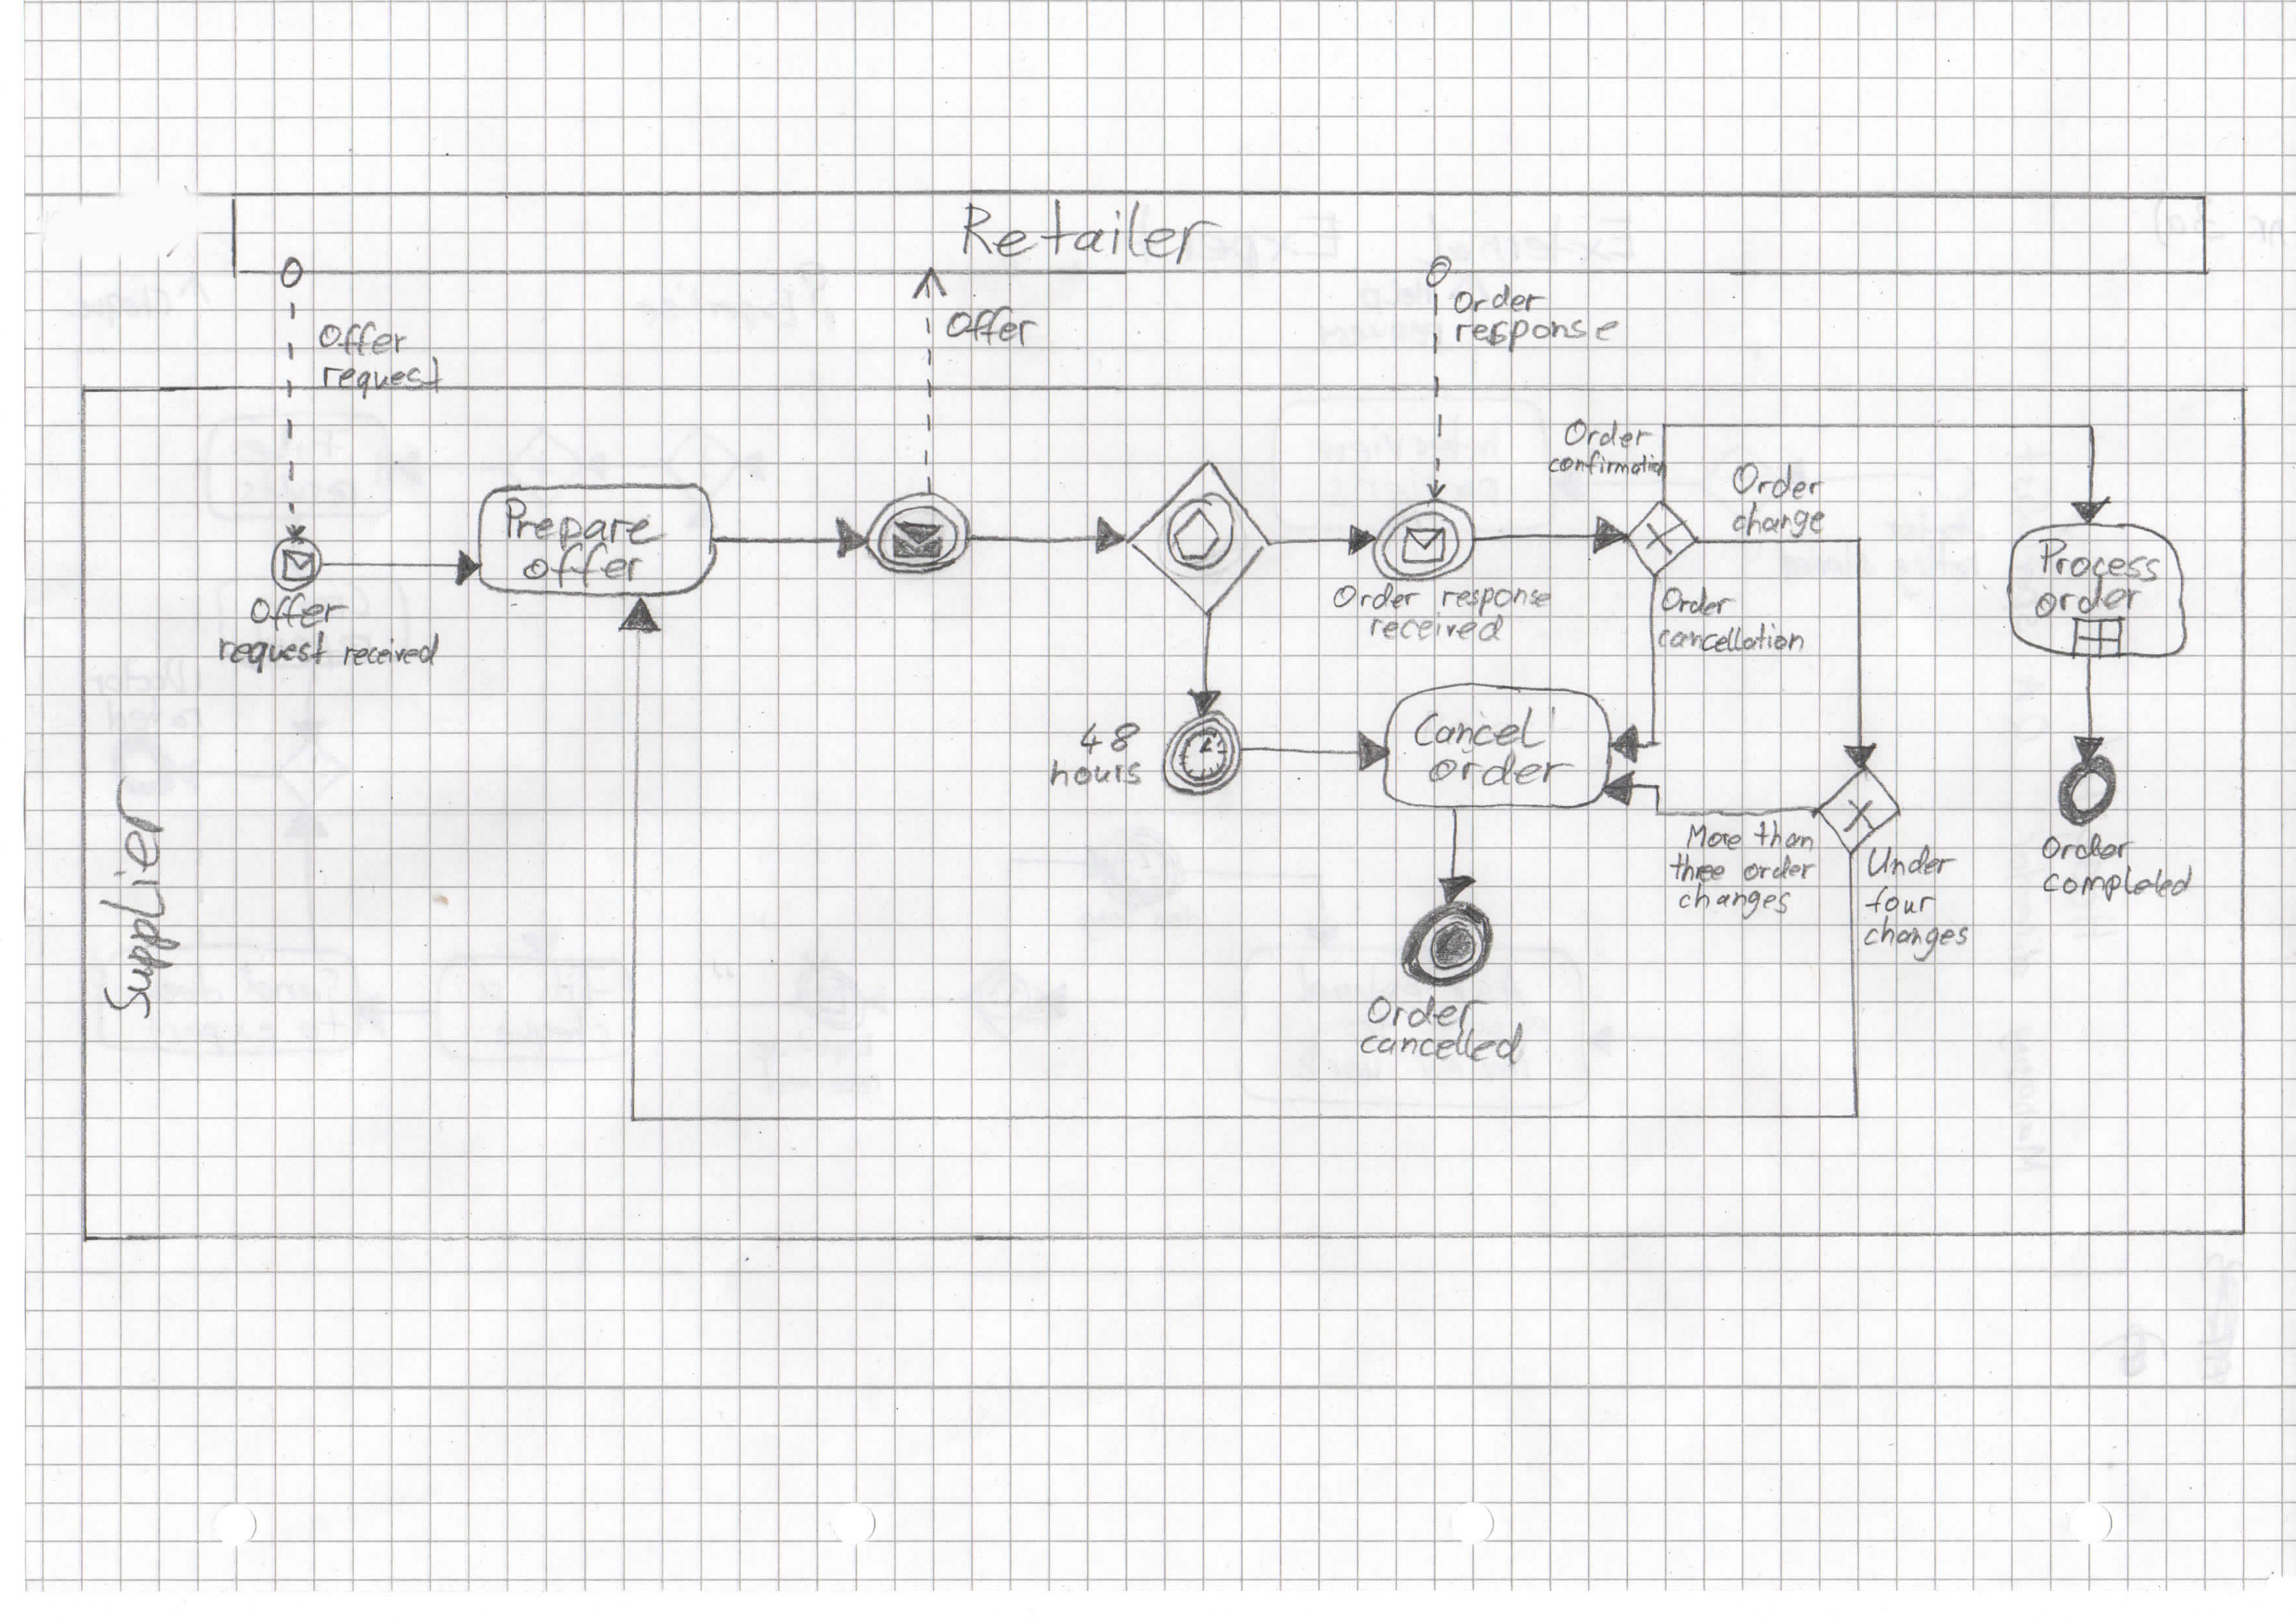48: (1077, 717, 1142, 755)
Cancel: (1414, 710, 1542, 754)
More: (1688, 820, 1746, 857)
Order: (1368, 985, 1488, 1033), (1734, 458, 1822, 504), (1333, 573, 1421, 615), (2040, 831, 2131, 864), (1569, 418, 1651, 451), (1662, 585, 1734, 620)
Prepare: (501, 495, 668, 557)
Process: (2032, 536, 2159, 585)
Retailer: (954, 193, 1200, 272)
Supplier: (97, 792, 190, 1026)
Under: (1871, 843, 1953, 882)
cancellation: (1651, 622, 1804, 659)
cancelled: (1360, 1028, 1528, 1066)
changes: (1859, 917, 1973, 954), (1676, 887, 1792, 917)
charge: (1730, 502, 1823, 539)
completed: (2040, 864, 2198, 905)
confirmation: (1542, 453, 1665, 480)
four: (1866, 885, 1936, 919)
hours: (1054, 755, 1145, 789)
offer: (525, 546, 652, 588), (945, 304, 1042, 351), (318, 320, 413, 358), (249, 594, 346, 629)
order: (1433, 754, 1569, 792), (2034, 580, 2136, 622), (1451, 279, 1539, 320), (1739, 850, 1823, 887)
received: (1365, 615, 1505, 643), (336, 638, 439, 671)
request: (311, 358, 437, 400), (211, 632, 330, 671)
response: (1453, 313, 1621, 351), (1439, 581, 1551, 613)
than: (1751, 819, 1834, 857)
three: (1665, 852, 1734, 887)
